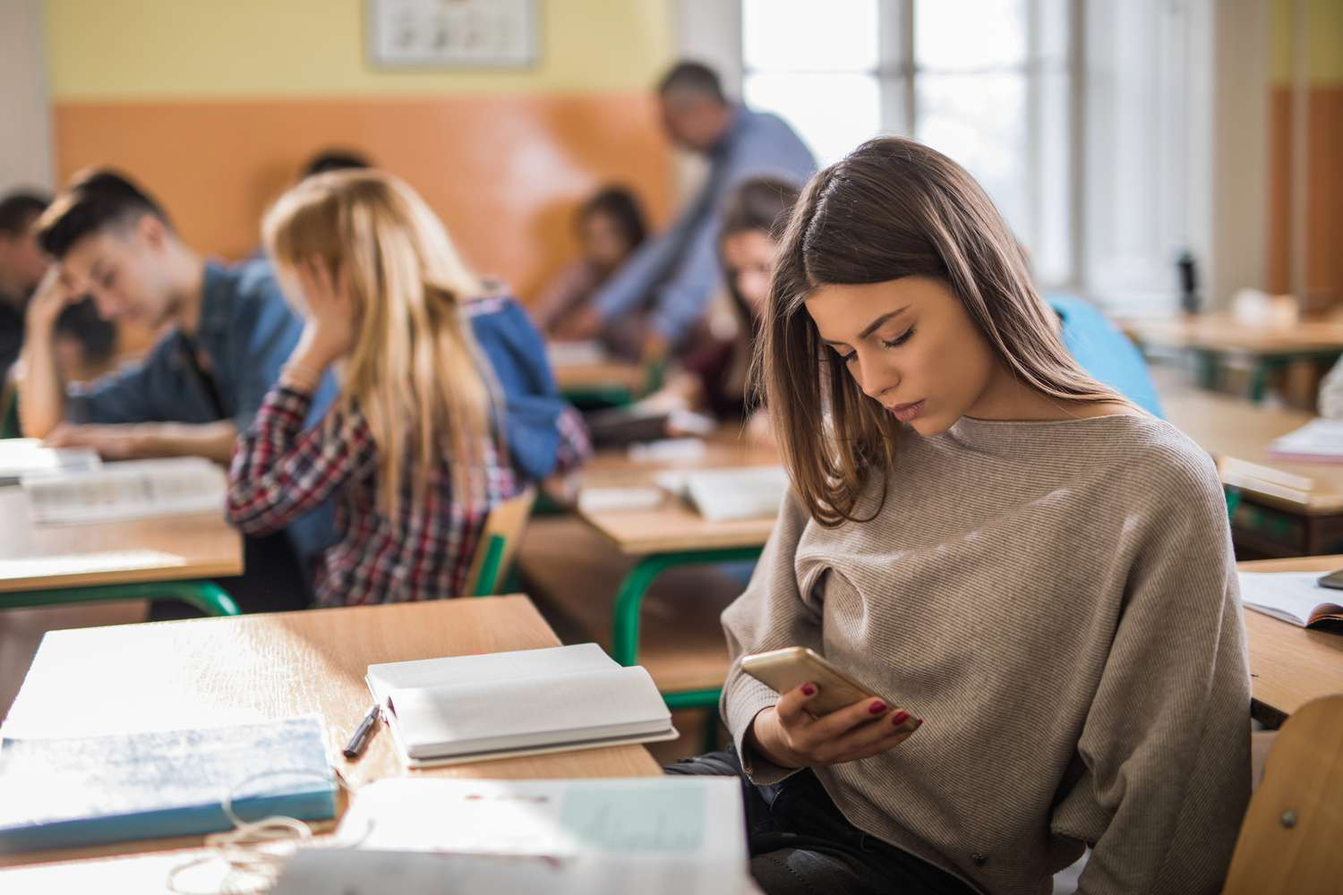cheating: (781, 150, 1054, 468)
phone: (735, 640, 884, 703)
